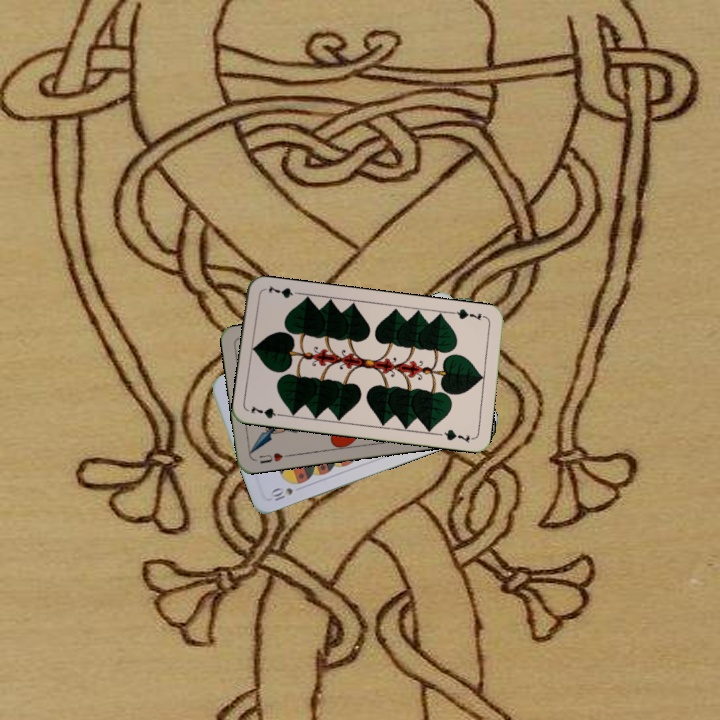G7: (247, 402, 287, 421), (449, 305, 489, 323)
HU: (255, 449, 292, 466)
S10: (267, 483, 296, 504)
